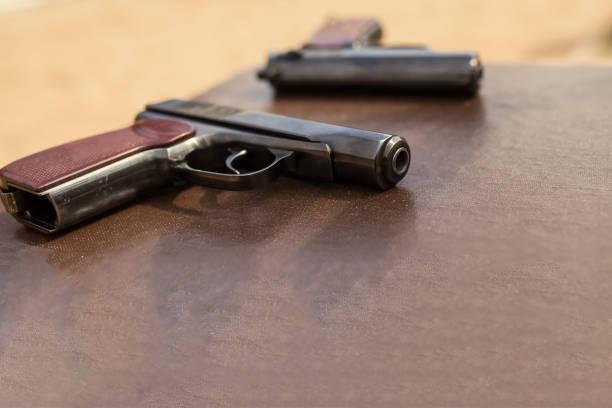weapon: (0, 93, 415, 246), (261, 14, 488, 99)
